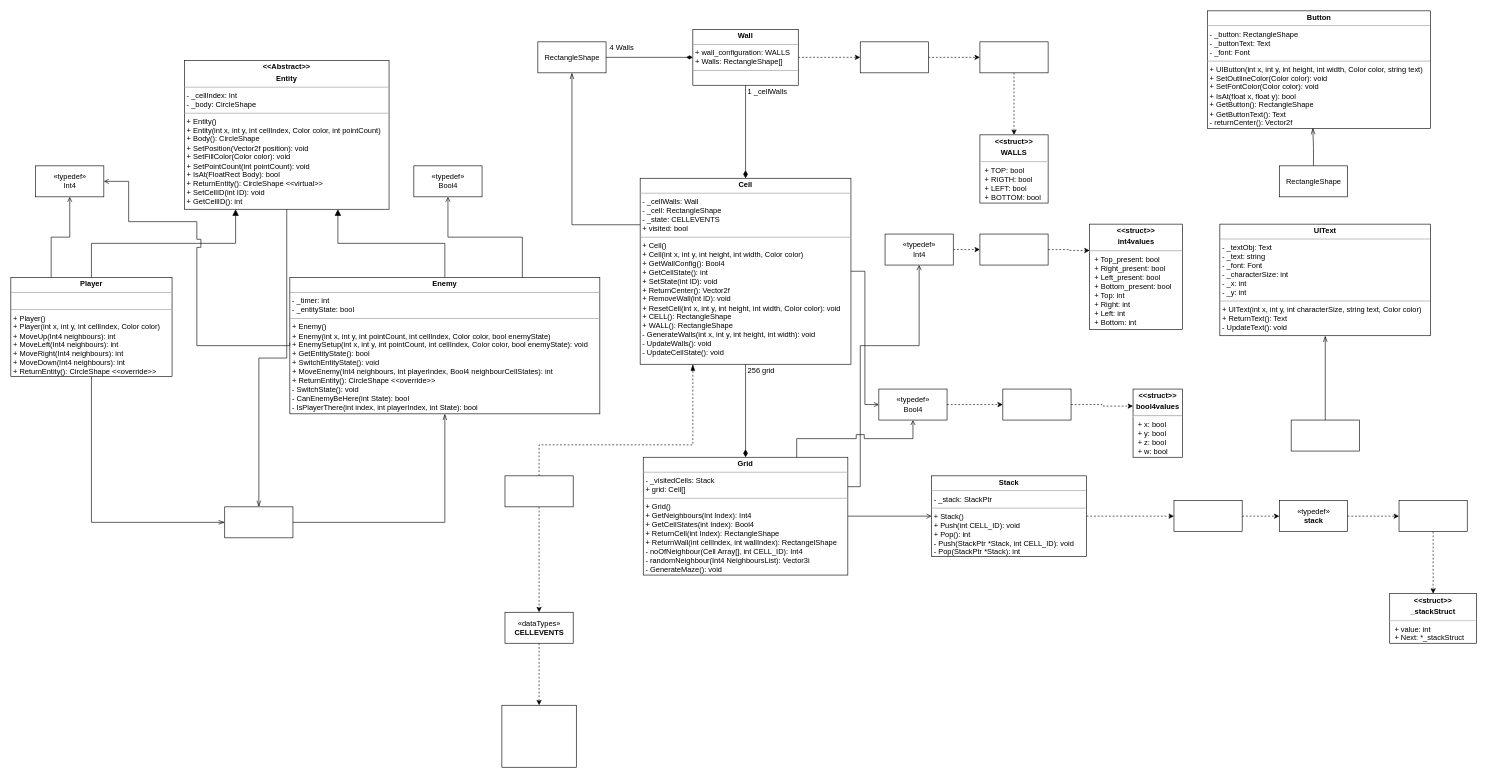
Some shapes in this 1487 by 778 pixel diagram are drawn without their labels. The shapes that lost their labels are listed below. From the top down, each one's box as (x1, y1, x2, y2) in pixels, then its label:
(860, 41, 928, 73): «typedef» wall_configuration
(979, 41, 1048, 73): «dataTypes» WALLS
(979, 233, 1048, 265): «dataTypes» int4values
(1002, 388, 1071, 420): «dataTypes» bool4values
(1291, 419, 1359, 451): Font
(504, 475, 573, 507): «typedef» _state
(224, 506, 293, 538): CircleShape
(1173, 500, 1242, 532): «typedef» <<ptr>>StackPtr
(1398, 500, 1467, 532): «dataTypes» _stackStruct
(501, 705, 576, 767): <<enumeration>> CELLEVENTS PATH START END
